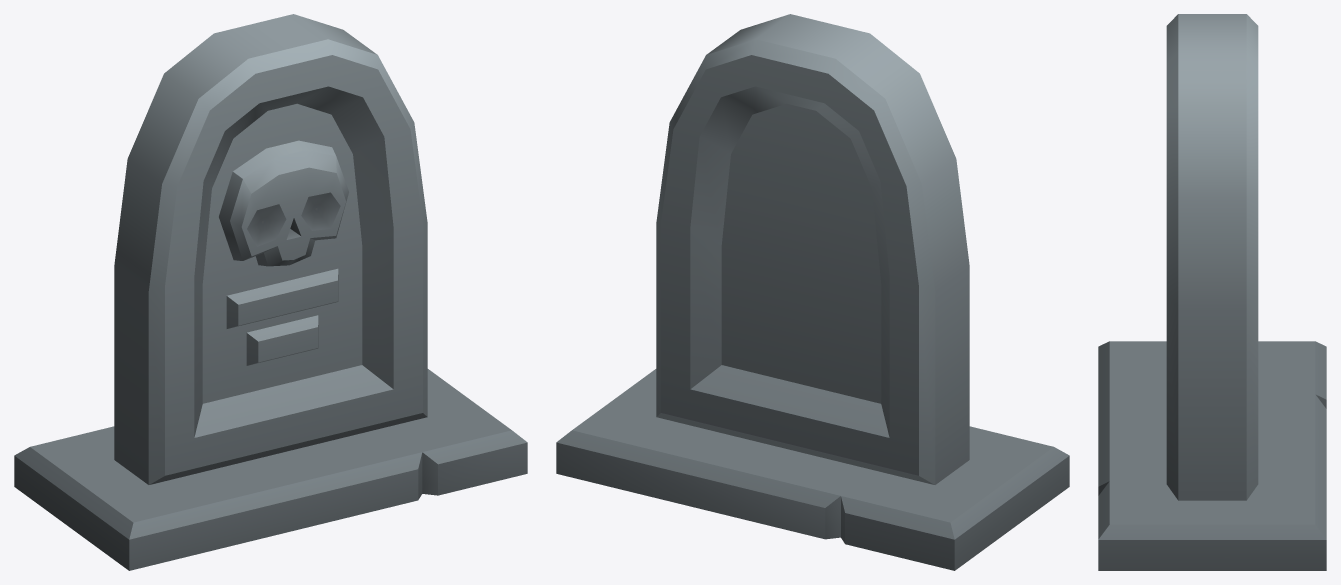
Rendered from kk_grave.glb.
3 views of the same model, side by side, from view 1: azimuth 30°, elevation 25°; view 2: azimuth 150°, elevation 25°; view 3: azimuth 270°, elevation 25° (orthographic).
Visible parts, largest first — view 1: grave_A; view 2: grave_A; view 3: grave_A.
Part boxes in pixels (<box>): grave_A: <box>14,14,527,570</box>; grave_A: <box>556,14,1069,570</box>; grave_A: <box>1098,14,1326,570</box>.
Size of the model in its own units: 2 by 2.13 by 0.9999.
1 material, 1 textured.
